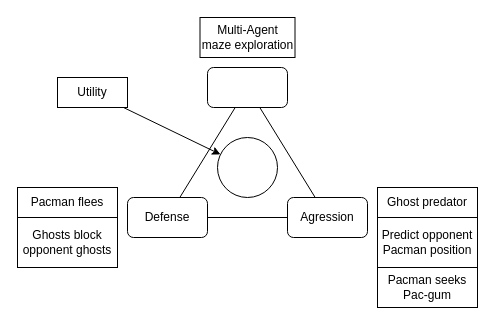
Image size: 495x325. Some labels were removed from this diagram. Each missing label, with the box of its shape:
Exploration: (206, 66, 288, 108)
Strategy: (216, 136, 278, 198)
